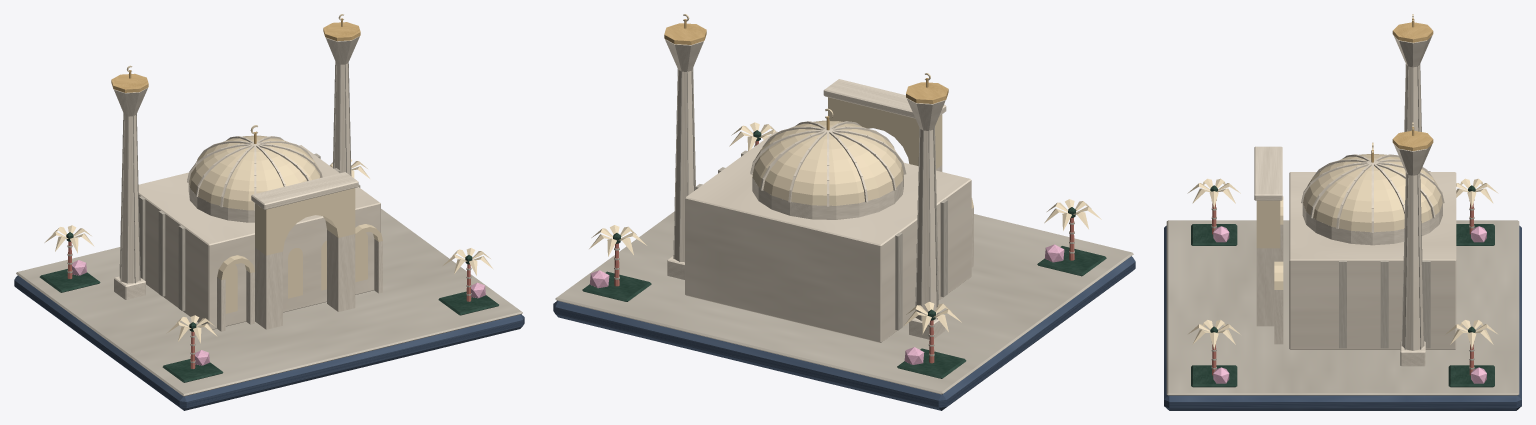
The model's file is mosheer-tantawy-mosque-diorama.glb.
3 renders of one model, left to right at view 1: azimuth 30°, elevation 25°; view 2: azimuth 150°, elevation 25°; view 3: azimuth 270°, elevation 25°, orthographic. The views are drawn at different scales.
Parts seen in each view (by area): view 1: mosheer-tantawy-mosque; view 2: mosheer-tantawy-mosque; view 3: mosheer-tantawy-mosque.
Part boxes in pixels (x1,y1,x2,y2): mosheer-tantawy-mosque: [14, 14, 524, 410]; mosheer-tantawy-mosque: [553, 14, 1135, 410]; mosheer-tantawy-mosque: [1164, 14, 1521, 410].
Bounding box in the file's own units: 14 × 9.49 × 12.
Materials: 1 (1 with a texture image).
